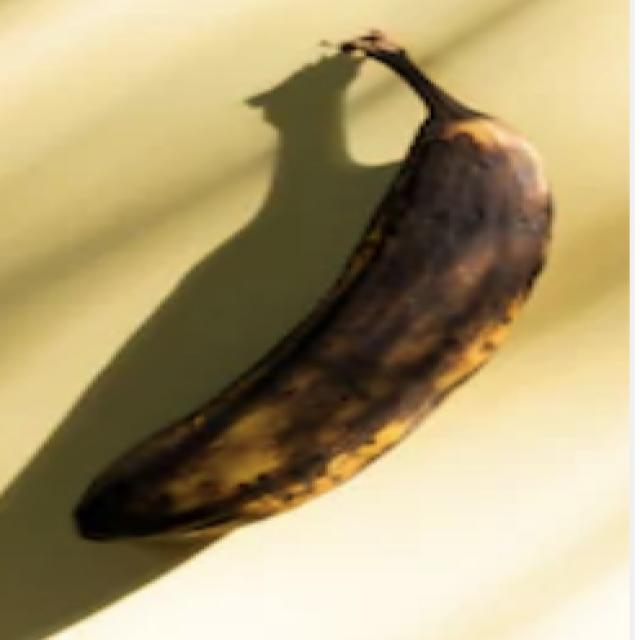rotten-banana: (51, 48, 577, 542)
